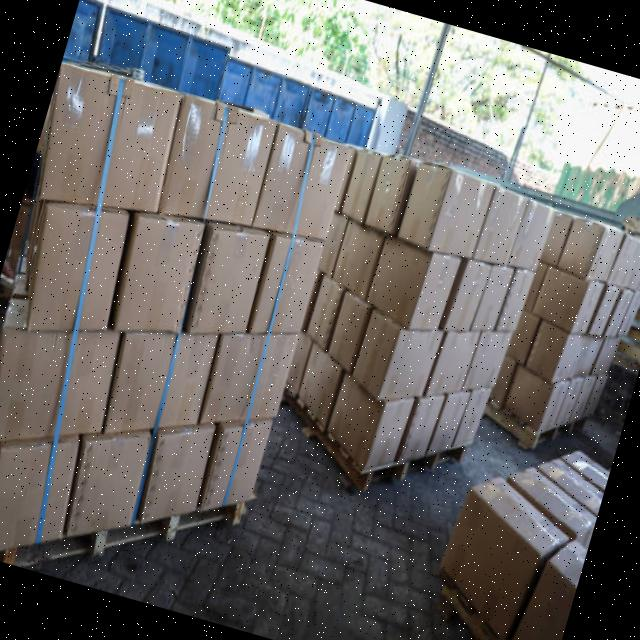Wooden-Pallets: (282, 381, 472, 501), (0, 501, 250, 558)
